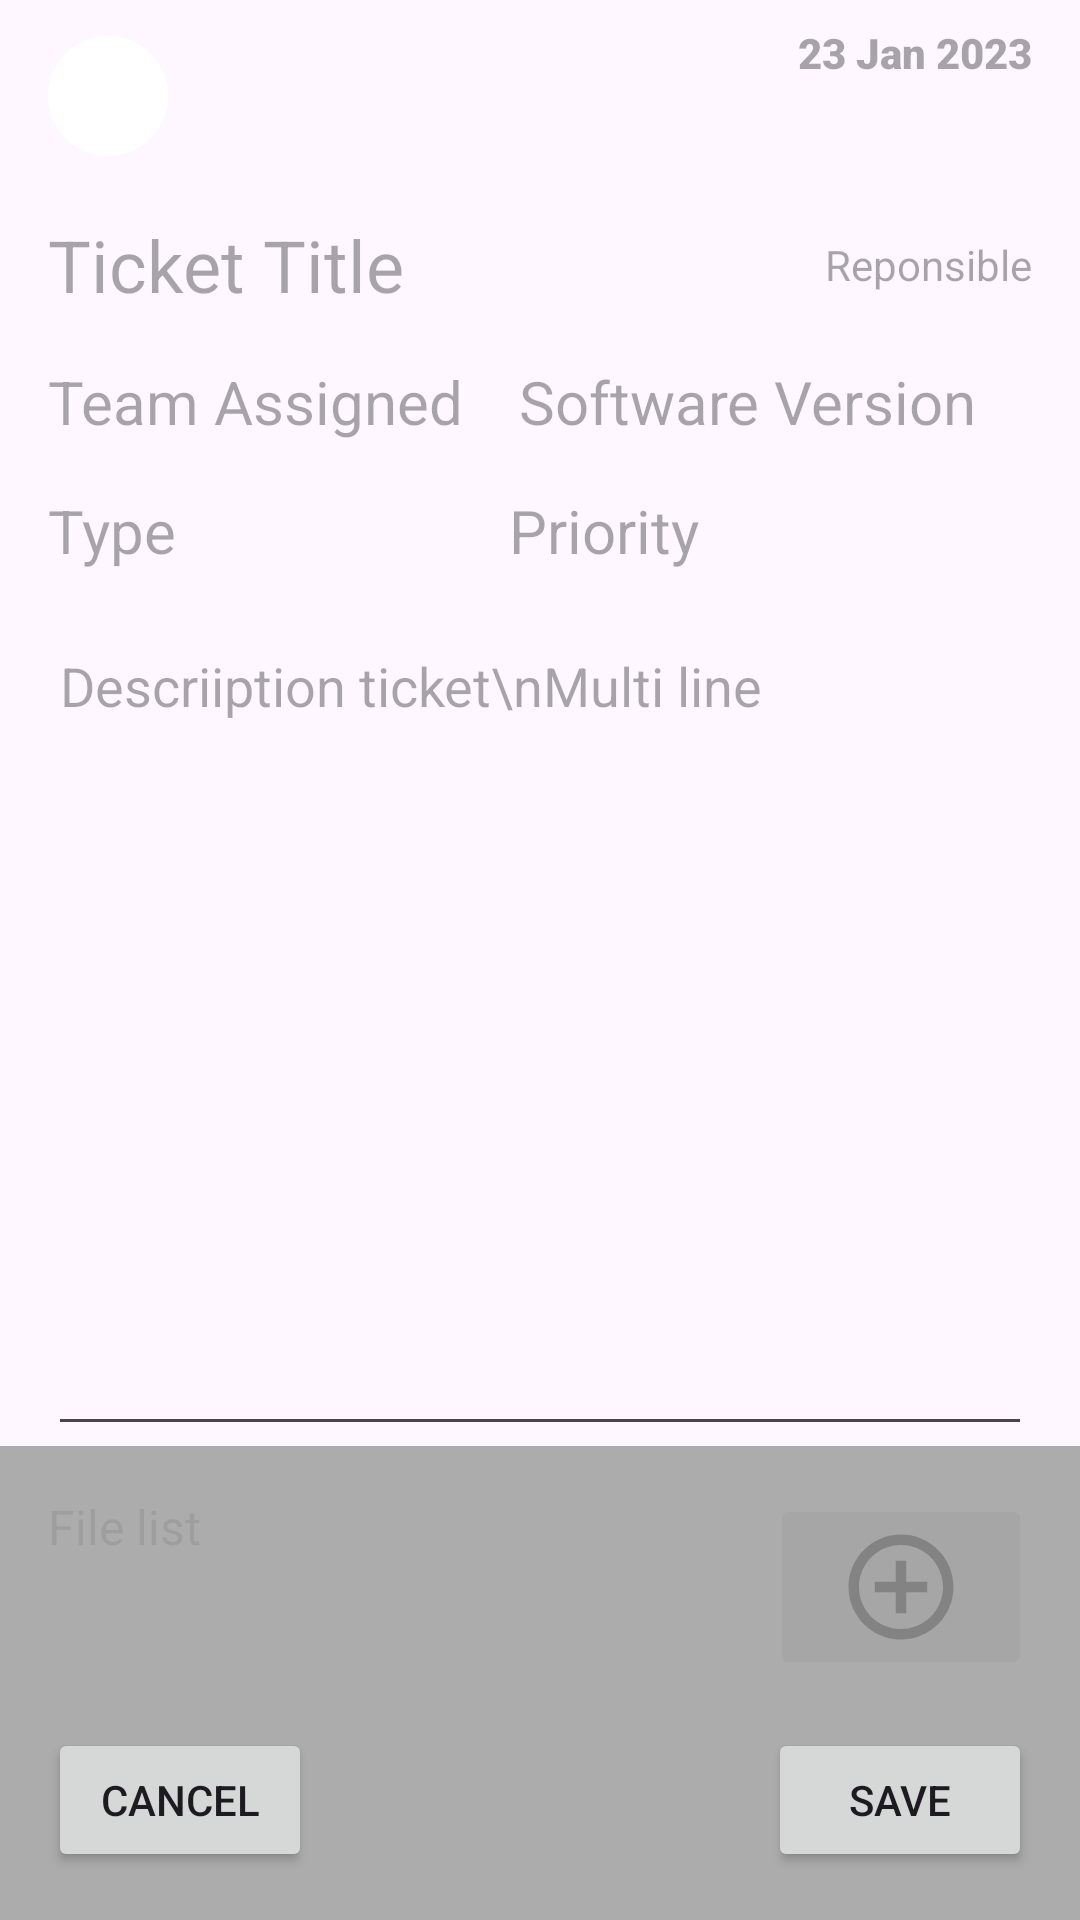

Icons on this 1080x1920 Android screen, each with its box as (x1, y1, x2, y2):
add: (849, 1535, 953, 1639)
